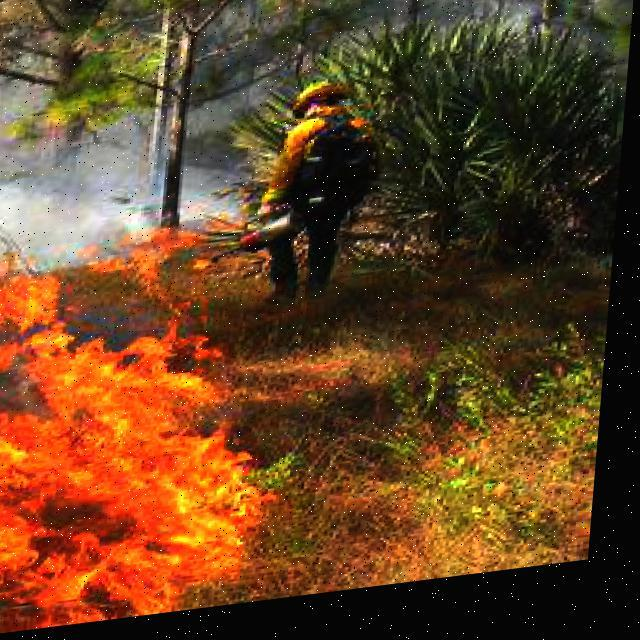Fire: (0, 220, 274, 636)
